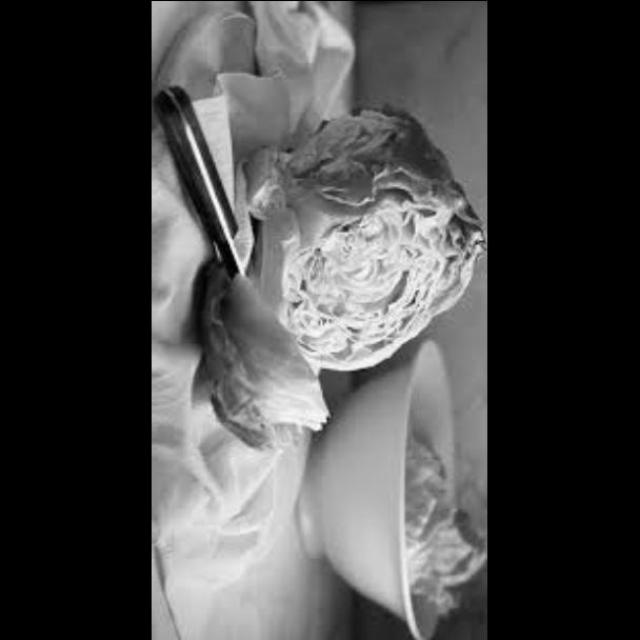xa lach: (244, 100, 489, 374), (187, 264, 335, 450), (399, 422, 489, 622)
